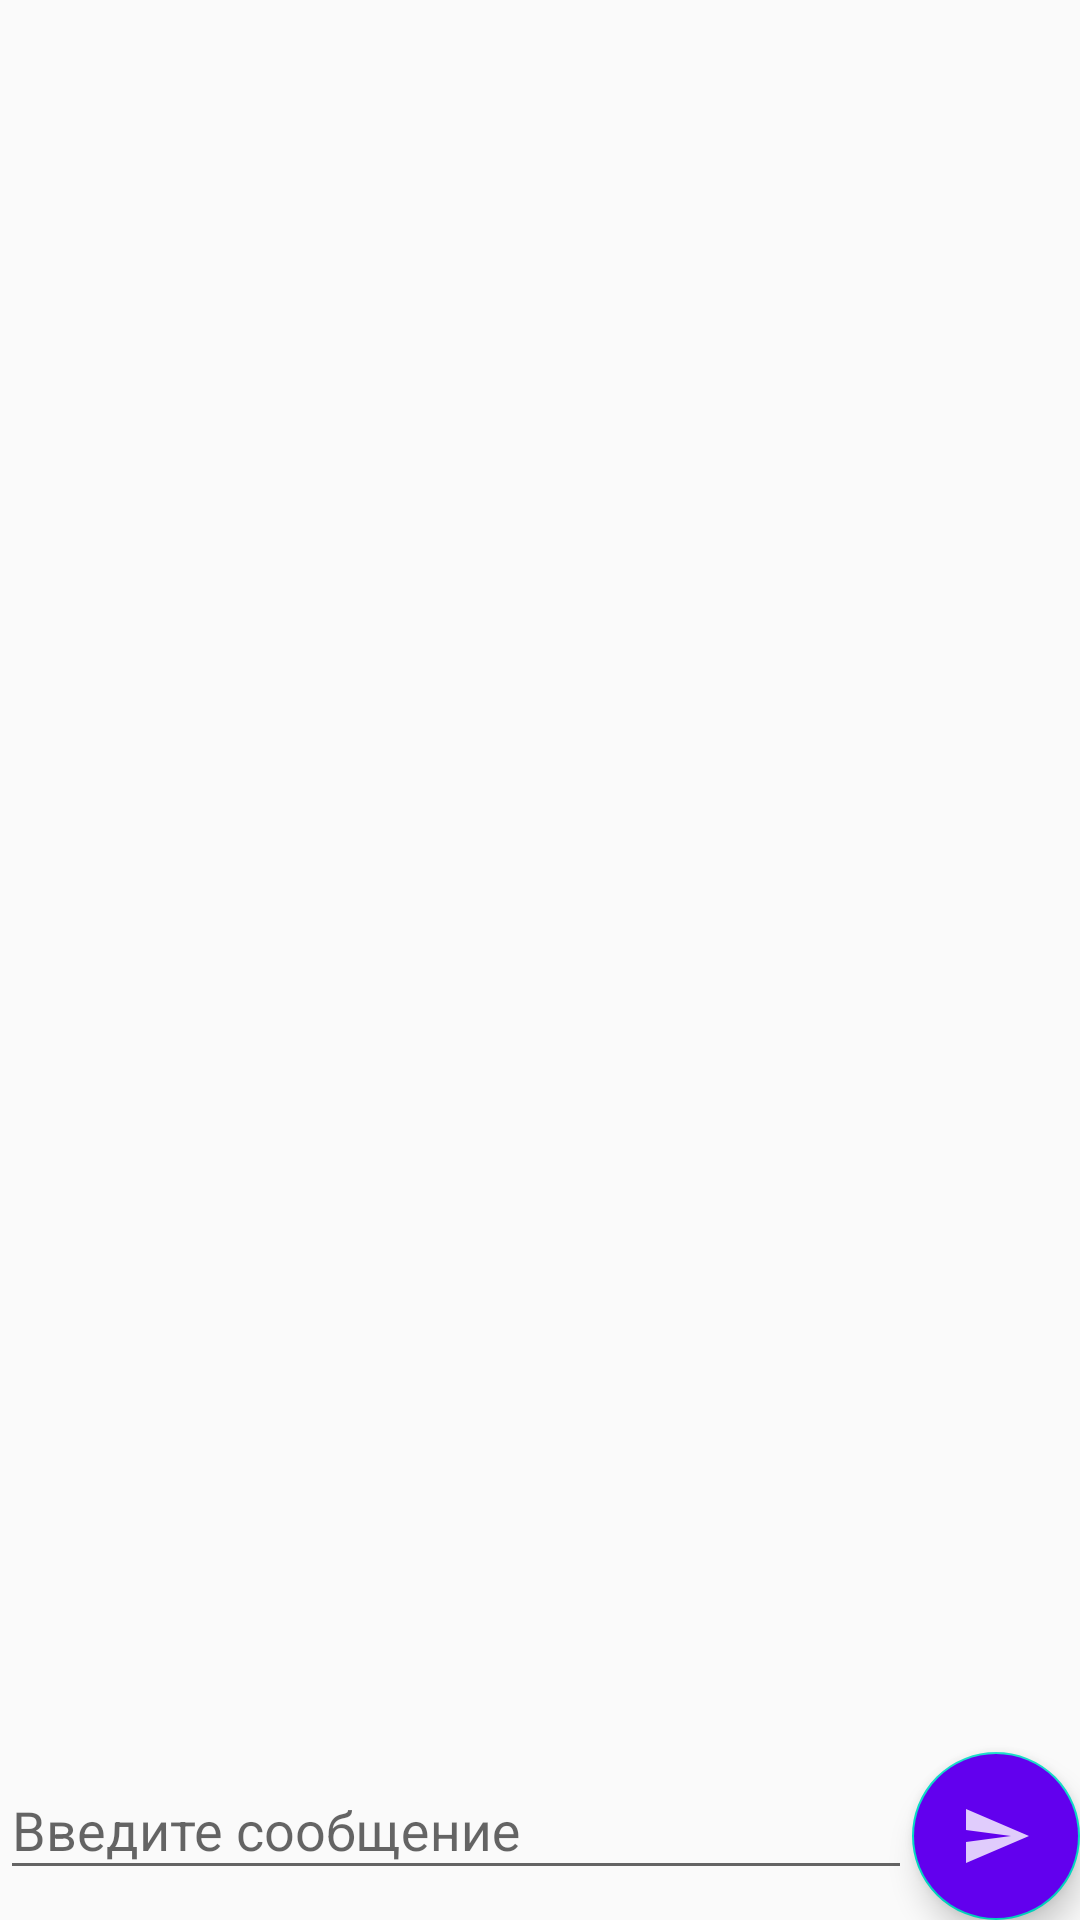

Screen size 1080*1920. Icon name, then its box in pixels as (x1,y1,x2,y2):
sendbutton: (912,1752,1080,1920)
